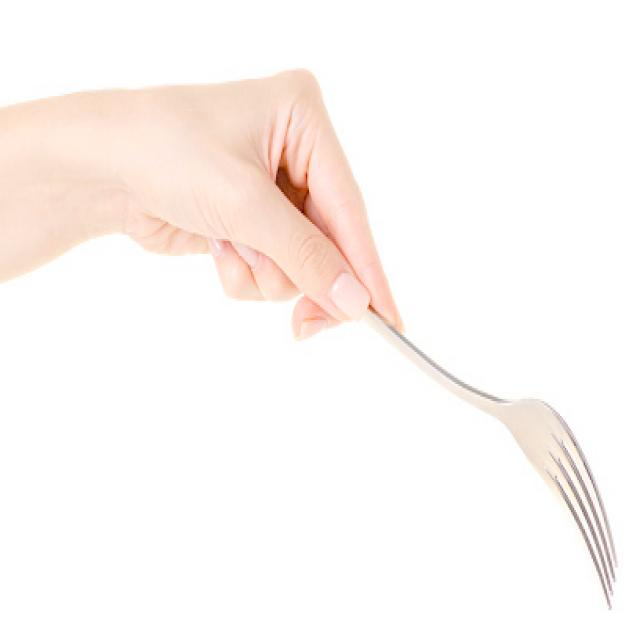fork: (271, 204, 619, 612)
